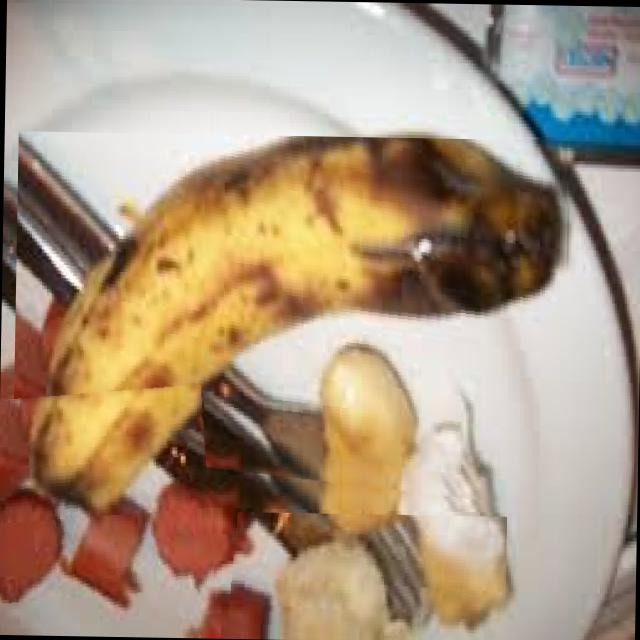Organic: (11, 130, 570, 510), (0, 379, 221, 638), (225, 510, 505, 640)
